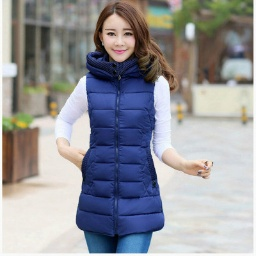face: (95, 3, 150, 64)
